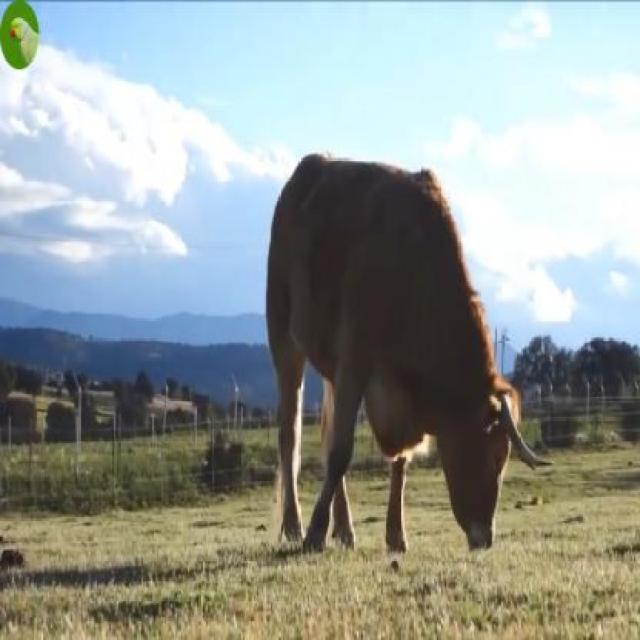Cow: (266, 149, 537, 562)
